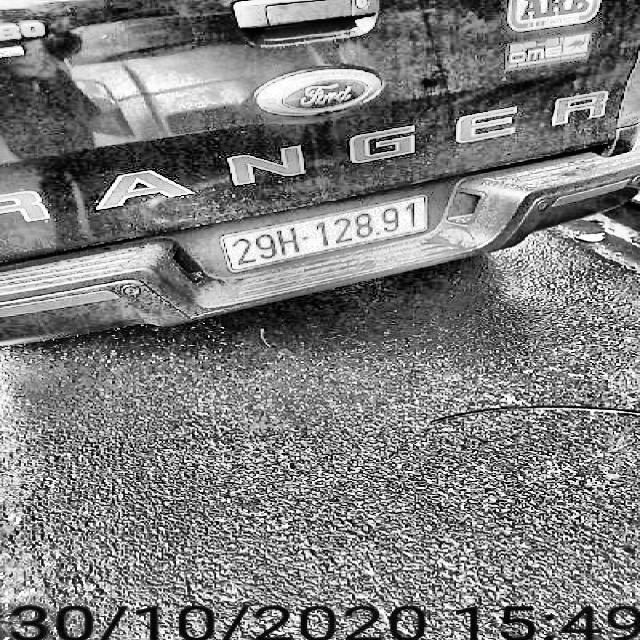plate: (217, 189, 436, 276)
